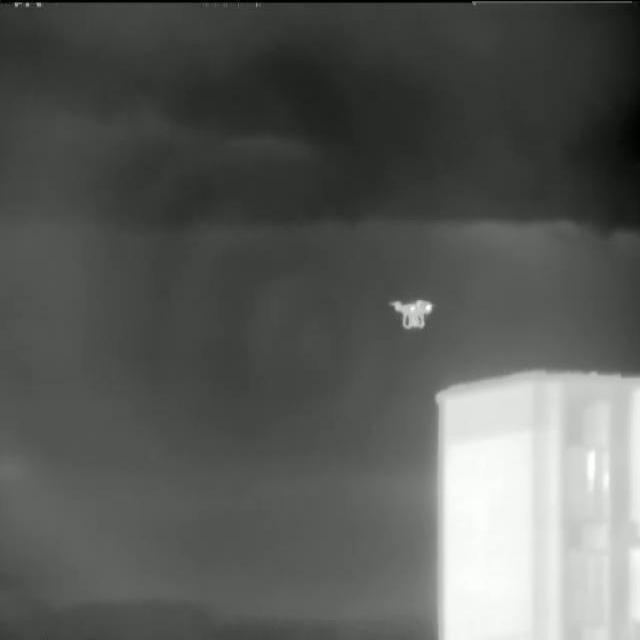DRONE: (388, 296, 437, 330)
